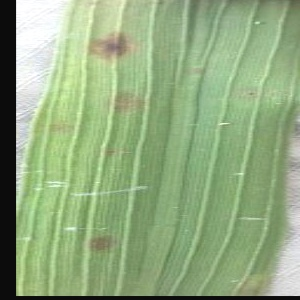Bacterial_Leaf_Blight: (83, 18, 142, 68), (100, 87, 147, 120), (83, 224, 124, 258), (236, 85, 265, 103), (98, 145, 121, 161), (258, 15, 273, 29), (250, 18, 262, 28)
